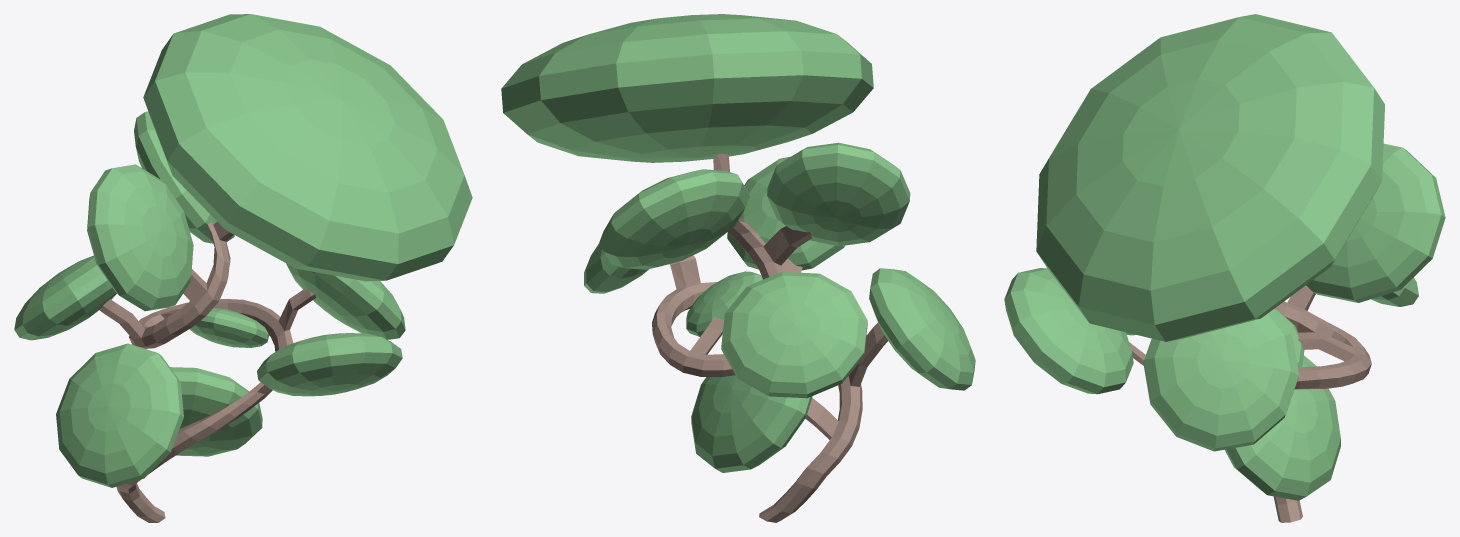
File: Tree1.fbx
3 views of the same model, side by side, from view 1: azimuth 30°, elevation 25°; view 2: azimuth 150°, elevation 25°; view 3: azimuth 270°, elevation 25° (orthographic). The views are drawn at different scales.
Parts seen in each view (by area): view 1: mesh_1451120033, group_1072661436; view 2: mesh_1451120033, group_1072661436; view 3: mesh_1451120033, group_1072661436.
Boxes of the visible parts, box(x1,y1,x2,y2) form: mesh_1451120033: box(14, 14, 472, 487); group_1072661436: box(99, 221, 316, 522); mesh_1451120033: box(501, 14, 975, 472); group_1072661436: box(652, 153, 887, 522); mesh_1451120033: box(1004, 14, 1445, 500); group_1072661436: box(1129, 285, 1371, 522).
Size of the model in its own units: 145 by 158 by 122.
